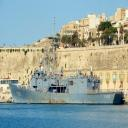Fragata: (8, 17, 126, 106)
